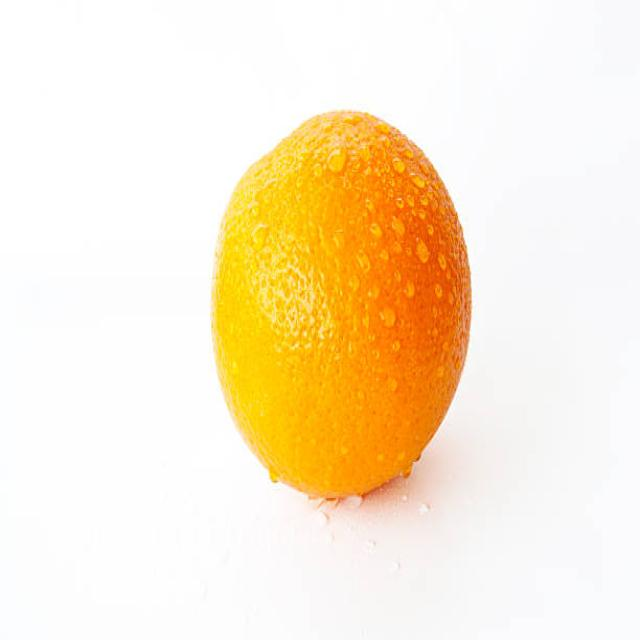Ripe: (209, 105, 474, 501)
